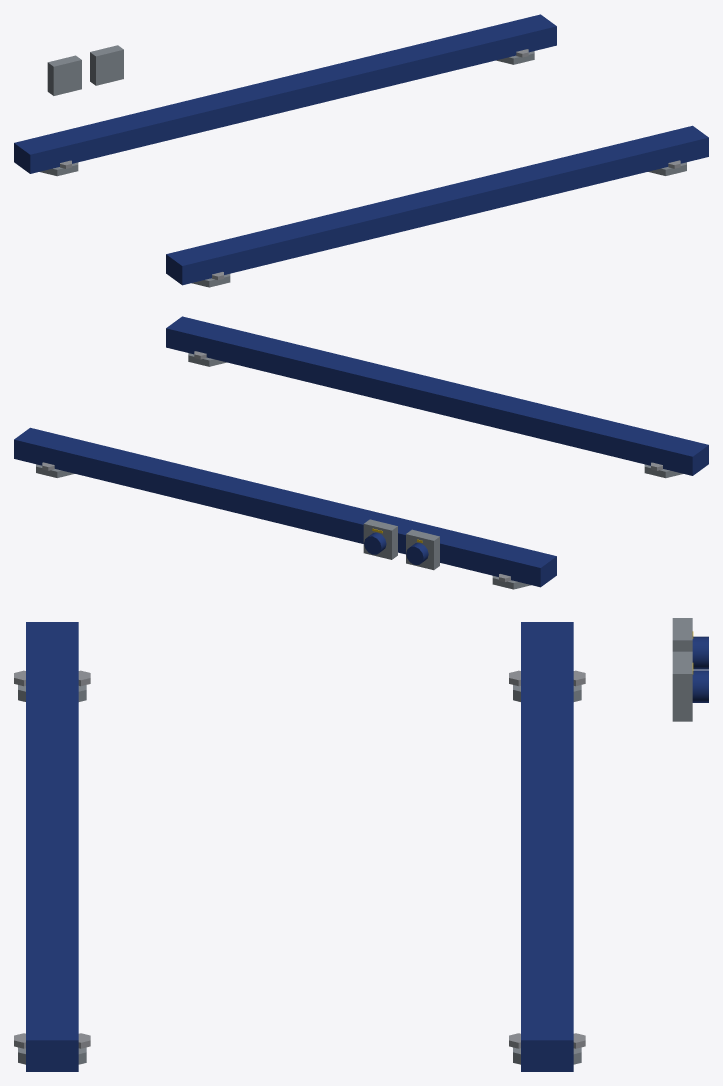
Rendered from mo4_frame.obj.
The picture shows the model from 3 angles, top to bottom: view 1: azimuth 30°, elevation 25°; view 2: azimuth 150°, elevation 25°; view 3: azimuth 270°, elevation 25°; orthographic projection. The views are drawn at different scales.
Parts seen in each view (by area): view 1: mo4_frame; view 2: mo4_frame; view 3: mo4_frame.
Boxes of the visible parts, x1,y1,x2,y2 form: mo4_frame: [14, 14, 708, 287]; mo4_frame: [14, 316, 708, 589]; mo4_frame: [14, 618, 708, 1071].
Bounding box in the file's own units: 3 × 0.34 × 2.11.
